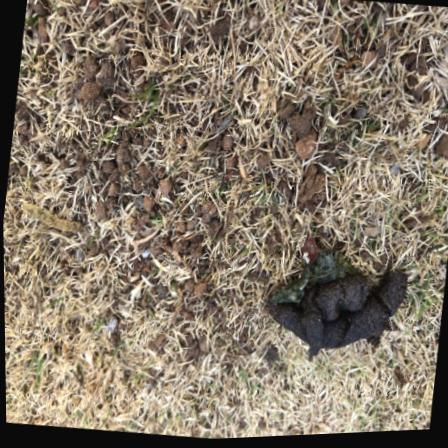dog-poop: (264, 247, 412, 379)
